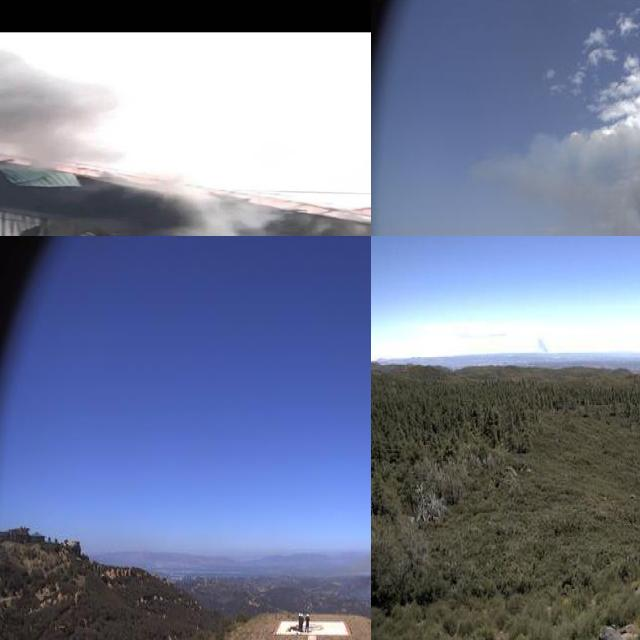smoke: (0, 48, 142, 170), (535, 127, 640, 236), (171, 192, 371, 236), (531, 329, 553, 357)
